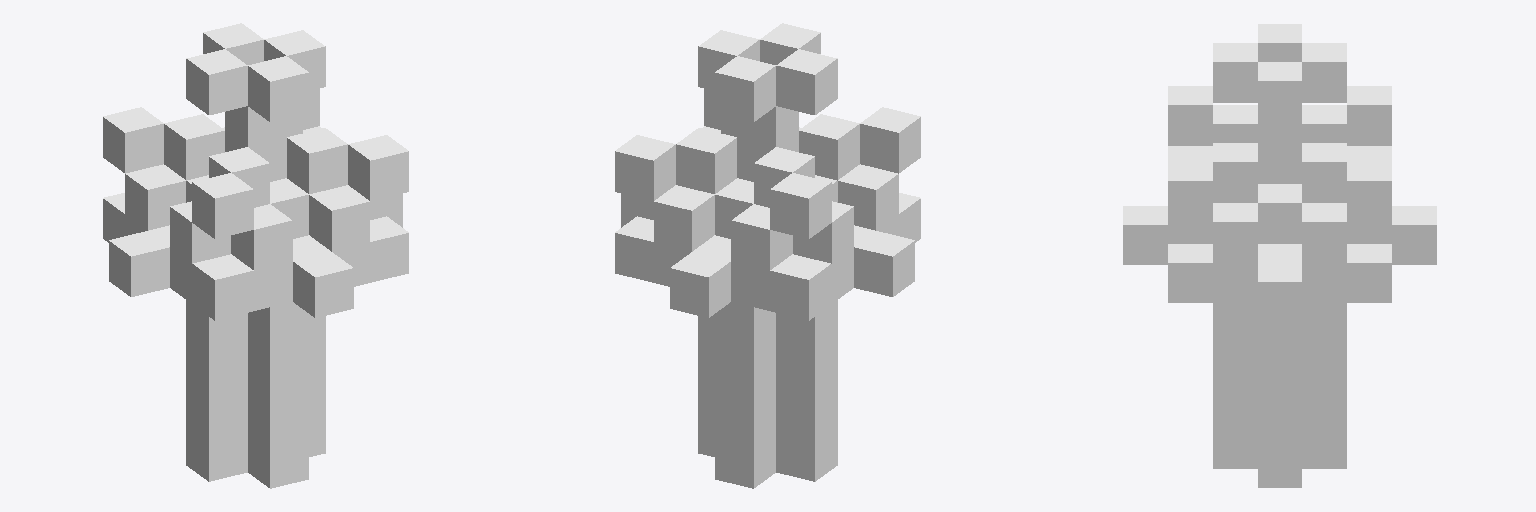
The model's file is assets01_copia03-4.obj.
3 renders of one model, left to right at view 1: azimuth 30°, elevation 25°; view 2: azimuth 150°, elevation 25°; view 3: azimuth 270°, elevation 25°, orthographic.
Visible parts, largest first — view 1: object 1; view 2: object 1; view 3: object 1.
Part boxes in pixels (left/top/right/bottom): object 1: left=103, top=23, right=408, bottom=488; object 1: left=615, top=23, right=920, bottom=488; object 1: left=1123, top=24, right=1436, bottom=487.
Bounding box in the file's own units: 0.7 × 1 × 0.7.